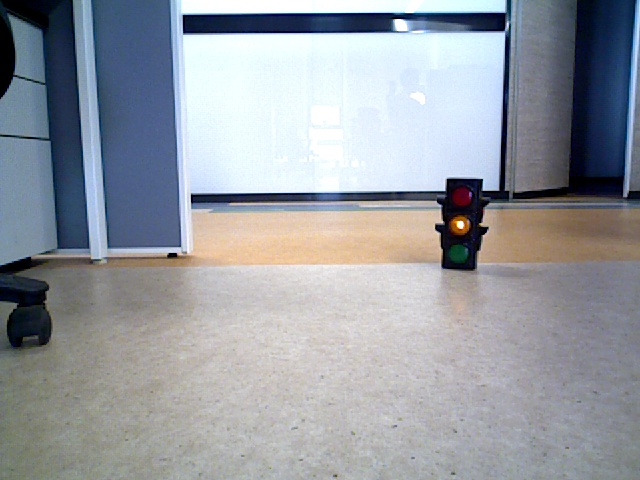yellow: (445, 184, 477, 267)
